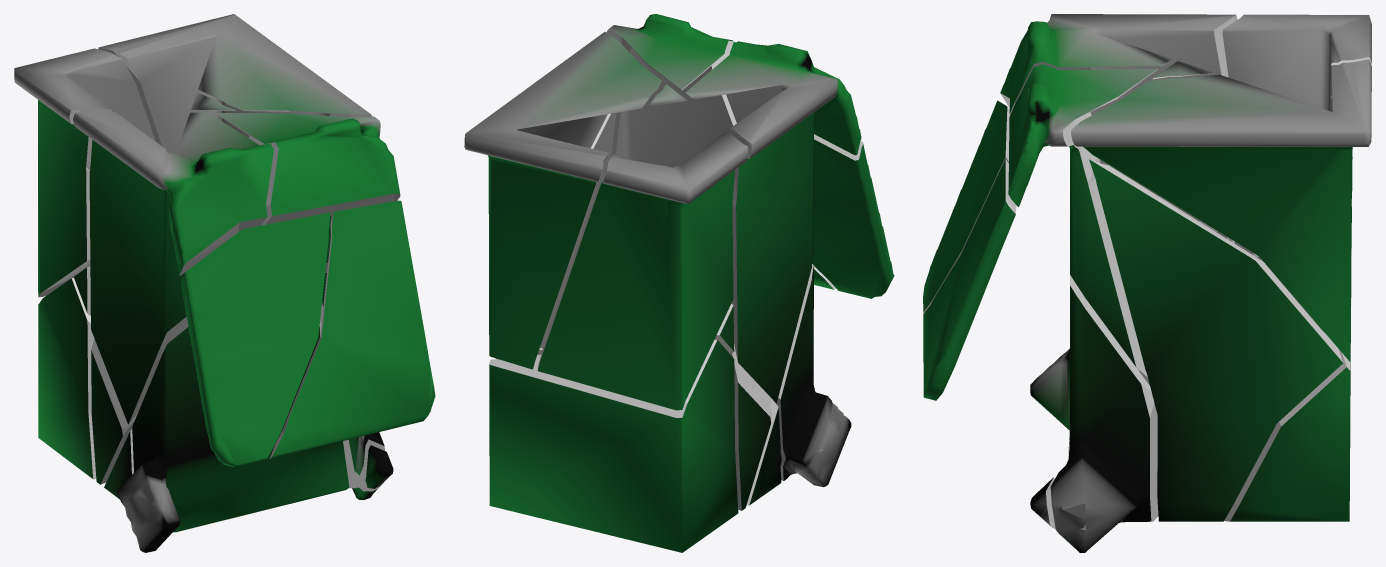
File: Garbage Cans(1).glb
3 views of the same model, side by side, from view 1: azimuth 30°, elevation 25°; view 2: azimuth 150°, elevation 25°; view 3: azimuth 270°, elevation 25° (orthographic). The views are drawn at different scales.
Parts seen in each view (by area): view 1: Root.010, Root.002, Root.009, Root, Root.012, Root.004, Root.003, Root.001, Root.011, Root.005, Root.006, Root.008; view 2: Root.004, Root.001, Root.012, Root.010, Root.003, Root.002, Root, Root.011, Root.005, Root.007, Root.008; view 3: Root.007, Root.012, Root.005, Root.003, Root.010, Root.001, Root.004, Root.009, Root.002, Root, Root.006.
Part boxes in pixels (left/top/right/bottom): Root.010: left=73, top=112, right=273, bottom=424; Root.002: left=181, top=212, right=330, bottom=467; Root.009: left=269, top=200, right=435, bottom=458; Root: left=117, top=327, right=349, bottom=552; Root.012: left=98, top=14, right=372, bottom=153; Root.004: left=14, top=48, right=155, bottom=297; Root.003: left=215, top=113, right=400, bottom=272; Root.001: left=38, top=277, right=96, bottom=479; Root.011: left=91, top=338, right=138, bottom=484; Root.005: left=104, top=273, right=384, bottom=499; Root.006: left=365, top=445, right=393, bottom=488; Root.008: left=74, top=266, right=90, bottom=315; Root.004: left=537, top=131, right=748, bottom=410; Root.001: left=489, top=339, right=738, bottom=552; Root.012: left=464, top=31, right=661, bottom=369; Root.010: left=685, top=41, right=861, bottom=403; Root.003: left=607, top=14, right=736, bottom=167; Root.002: left=812, top=134, right=894, bottom=298; Root: left=773, top=264, right=851, bottom=487; Root.011: left=730, top=344, right=771, bottom=510; Root.005: left=746, top=398, right=781, bottom=505; Root.007: left=496, top=113, right=616, bottom=358; Root.008: left=714, top=303, right=734, bottom=354; Root.007: left=1089, top=159, right=1342, bottom=521; Root.012: left=1071, top=59, right=1371, bottom=361; Root.005: left=1050, top=275, right=1158, bottom=552; Root.003: left=1008, top=64, right=1157, bottom=377; Root.010: left=1000, top=14, right=1237, bottom=242; Root.001: left=1224, top=253, right=1350, bottom=521; Root.004: left=1222, top=14, right=1371, bottom=305; Root.009: left=923, top=159, right=1016, bottom=400; Root.002: left=923, top=100, right=1009, bottom=313; Root: left=1030, top=348, right=1139, bottom=455; Root.006: left=1030, top=477, right=1055, bottom=528.
Bounding box in the file's own units: 0.7372 × 1.17 × 1.09.
